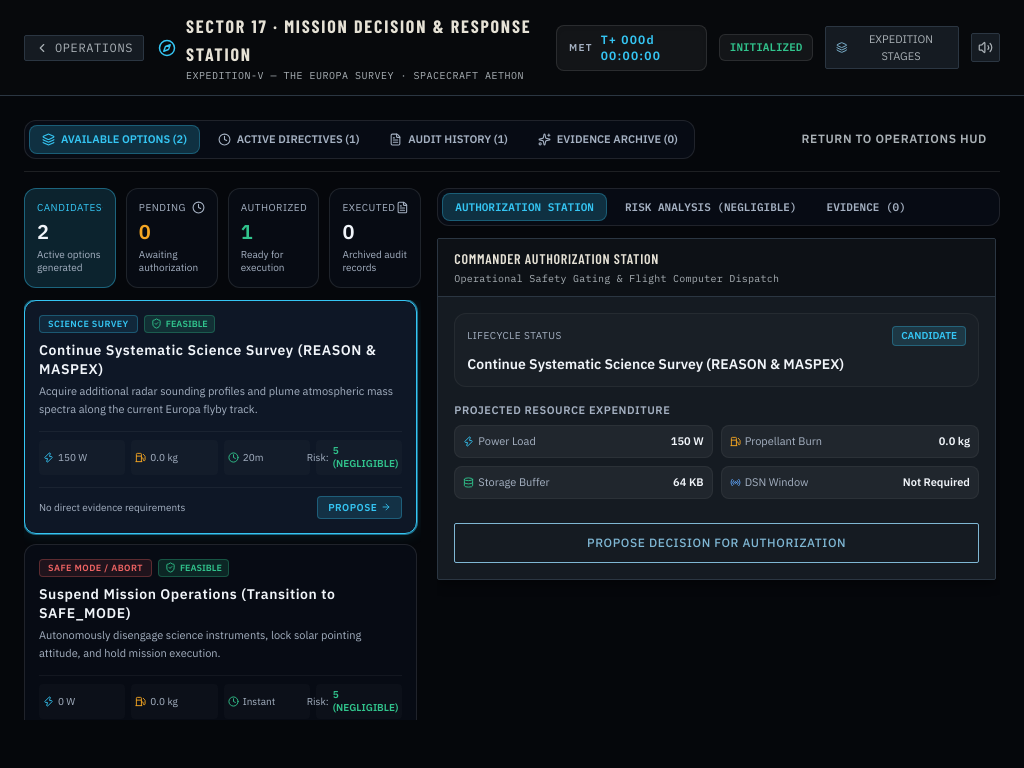
Test: Phase 6.3 Mission Decision Interface Integration › 9. Decision Execution & Physical Consequence Dispatch › executes an APPROVED decision, dispatches commands, and reflects consequences
The width and height of the screenshot is (1024, 768).
// Switch to Active Directives
Click the button "Active Directives (1)" at (289, 139), box [206,126,371,153]
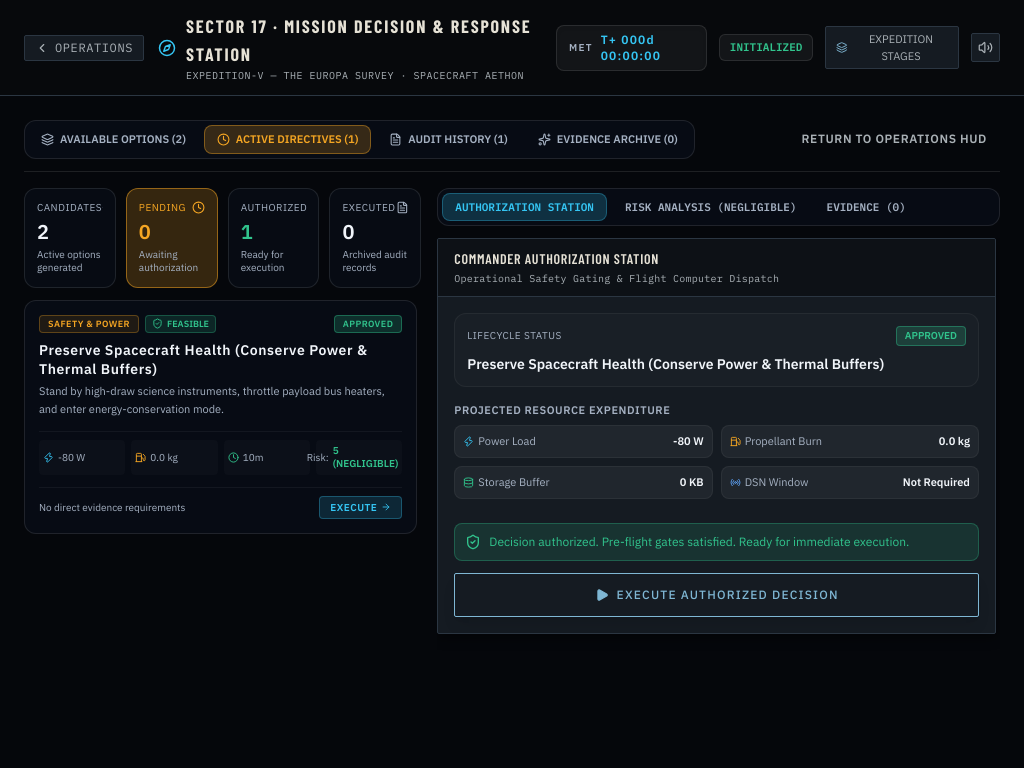
// Select directive
Click the heading "Preserve Spacecraft Health (Conserve Power & Thermal Buffers)" at (221, 360), box [39,341,402,379]
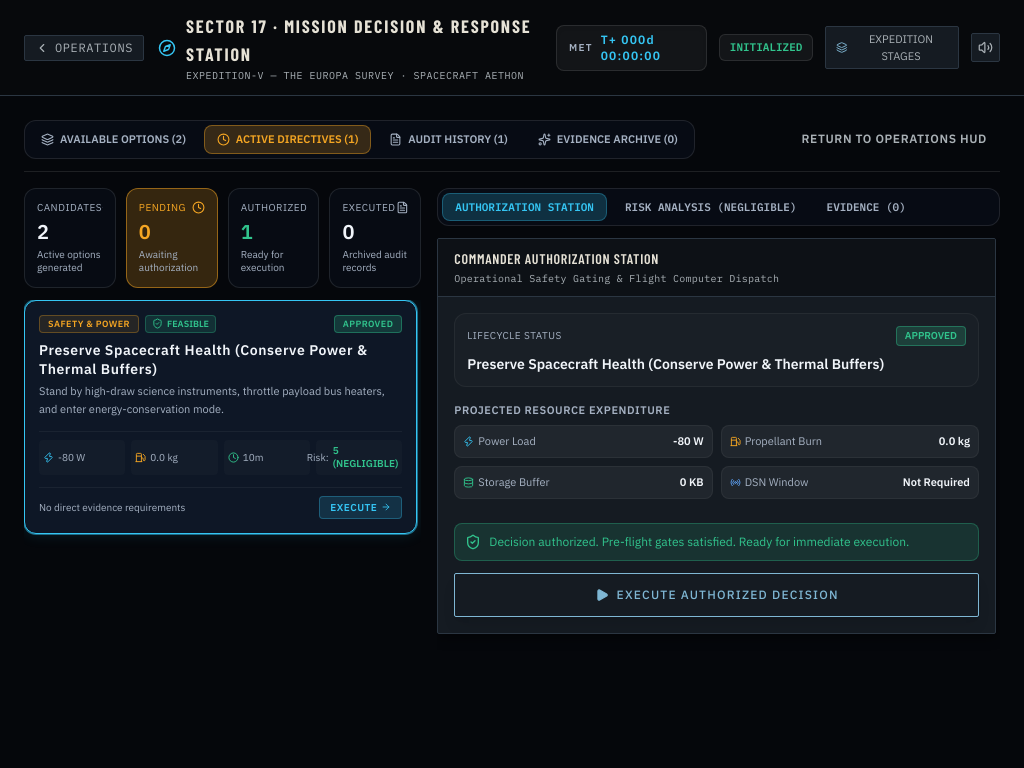
Now the button "EXECUTE AUTHORIZED DECISION" is shown
Click the button "EXECUTE AUTHORIZED DECISION" at (717, 595), box [454,573,979,617]
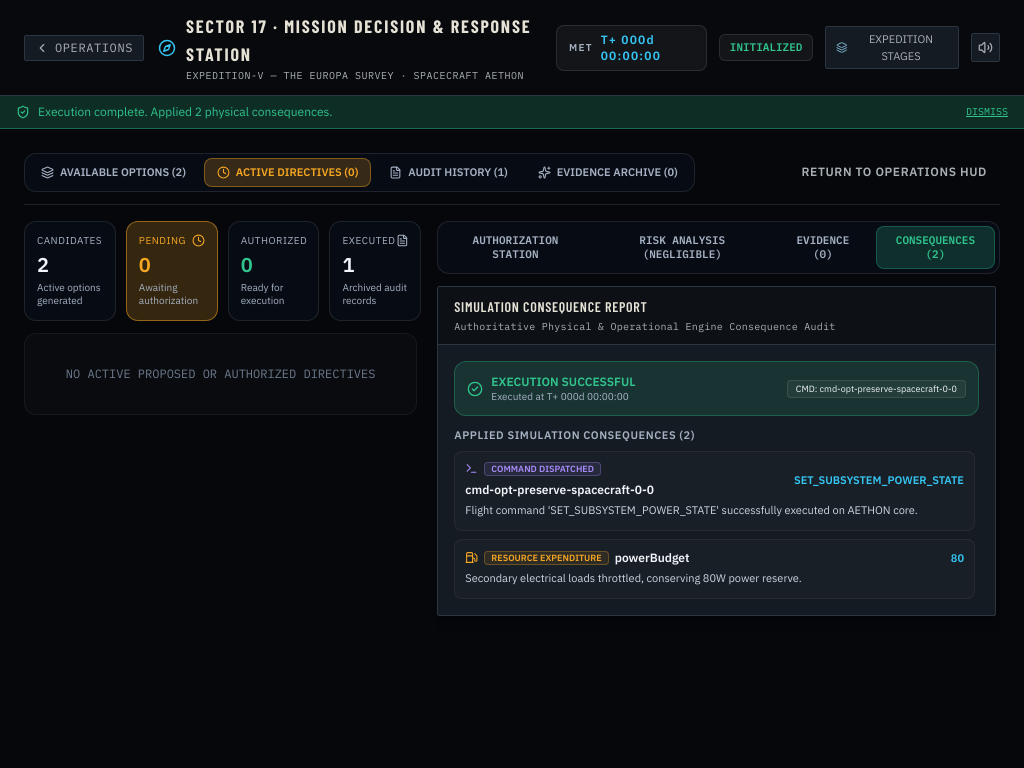
Now the text "Authoritative Physical & Operational Engine Consequence Audit" is shown, box [454,319,836,334]
Now the text "EXECUTION SUCCESSFUL" is shown, box [491,374,636,390]
